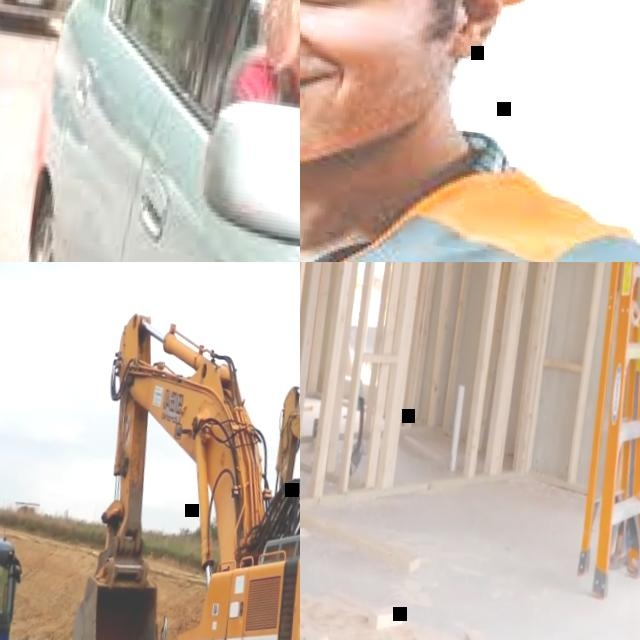NO-Mask: (300, 0, 486, 188), (261, 18, 300, 71)
Person: (300, 0, 640, 262), (596, 262, 640, 583)
Safety Cone: (0, 30, 24, 248), (24, 39, 60, 177)
Safety Vest: (300, 103, 640, 262)
machinery: (60, 307, 300, 640), (260, 381, 300, 560)
vehicle: (7, 0, 300, 262)
